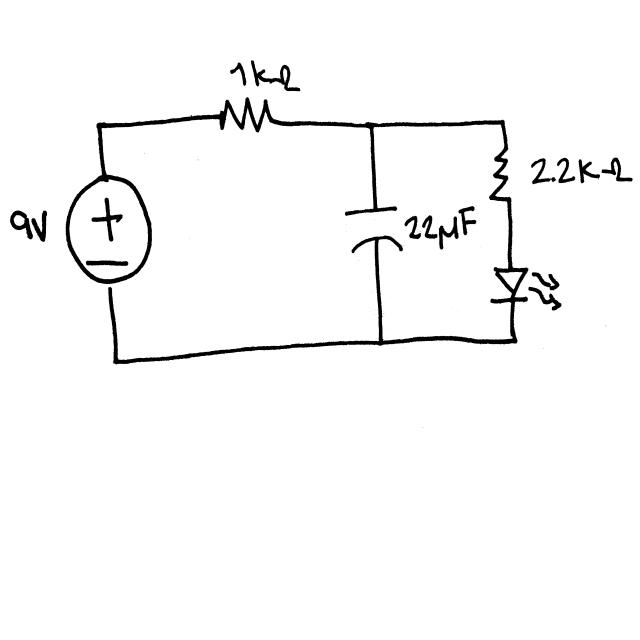capacitor: (341, 201, 405, 259)
diode: (487, 261, 565, 311)
junction: (373, 330, 391, 355), (108, 352, 127, 374), (365, 115, 380, 140), (93, 120, 110, 139), (506, 333, 521, 347), (496, 116, 510, 130)
resistor: (209, 96, 290, 136), (488, 148, 515, 203)
source: (63, 171, 156, 287)
text: (403, 202, 478, 252), (528, 154, 635, 189), (227, 57, 301, 93), (6, 208, 49, 245)
